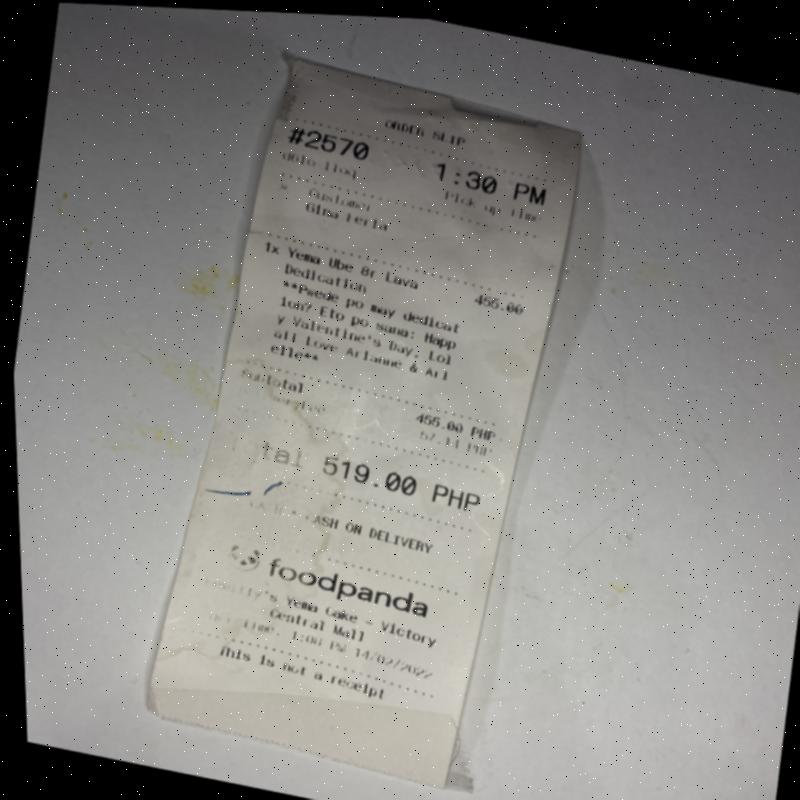paper: (144, 54, 582, 790)
